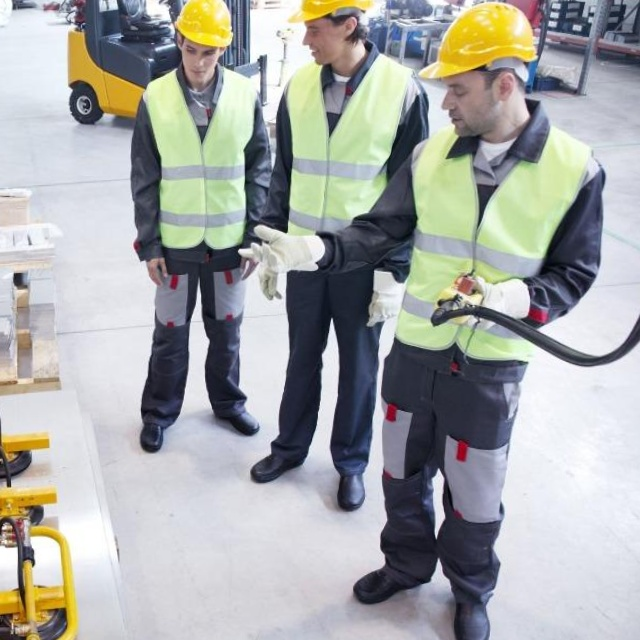Con_Chaleco: (392, 122, 610, 368), (277, 53, 420, 274), (135, 65, 262, 251)
